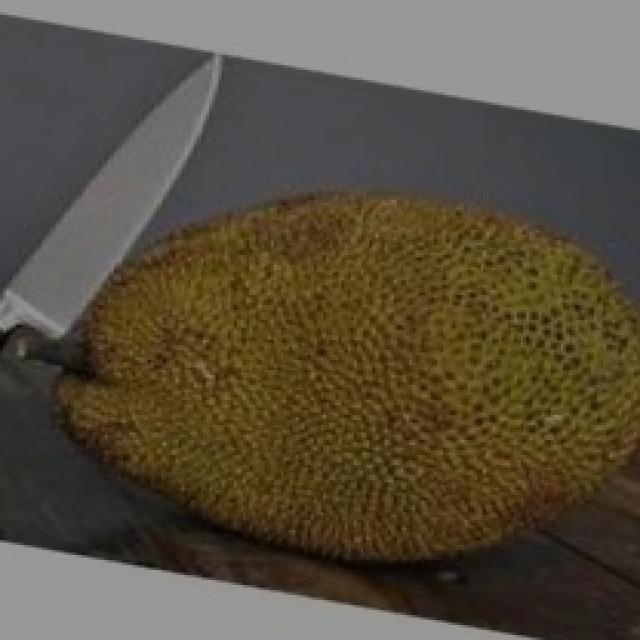Fruit: (12, 160, 391, 620), (237, 133, 640, 455)
